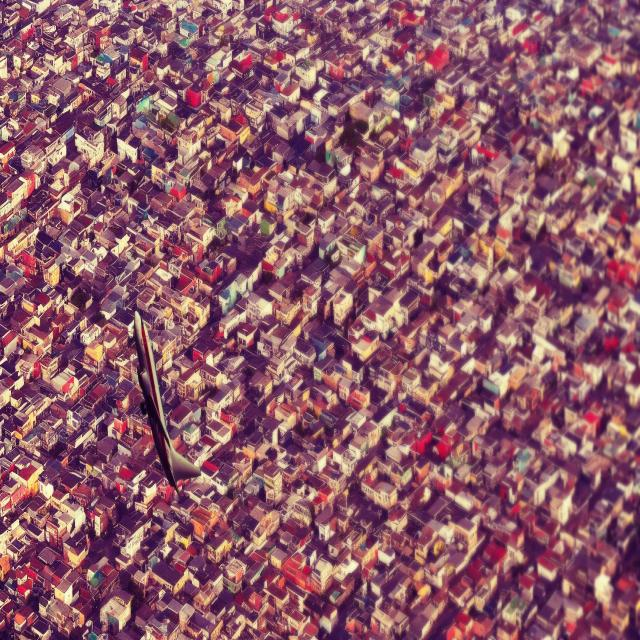airplane: (132, 309, 202, 502)
